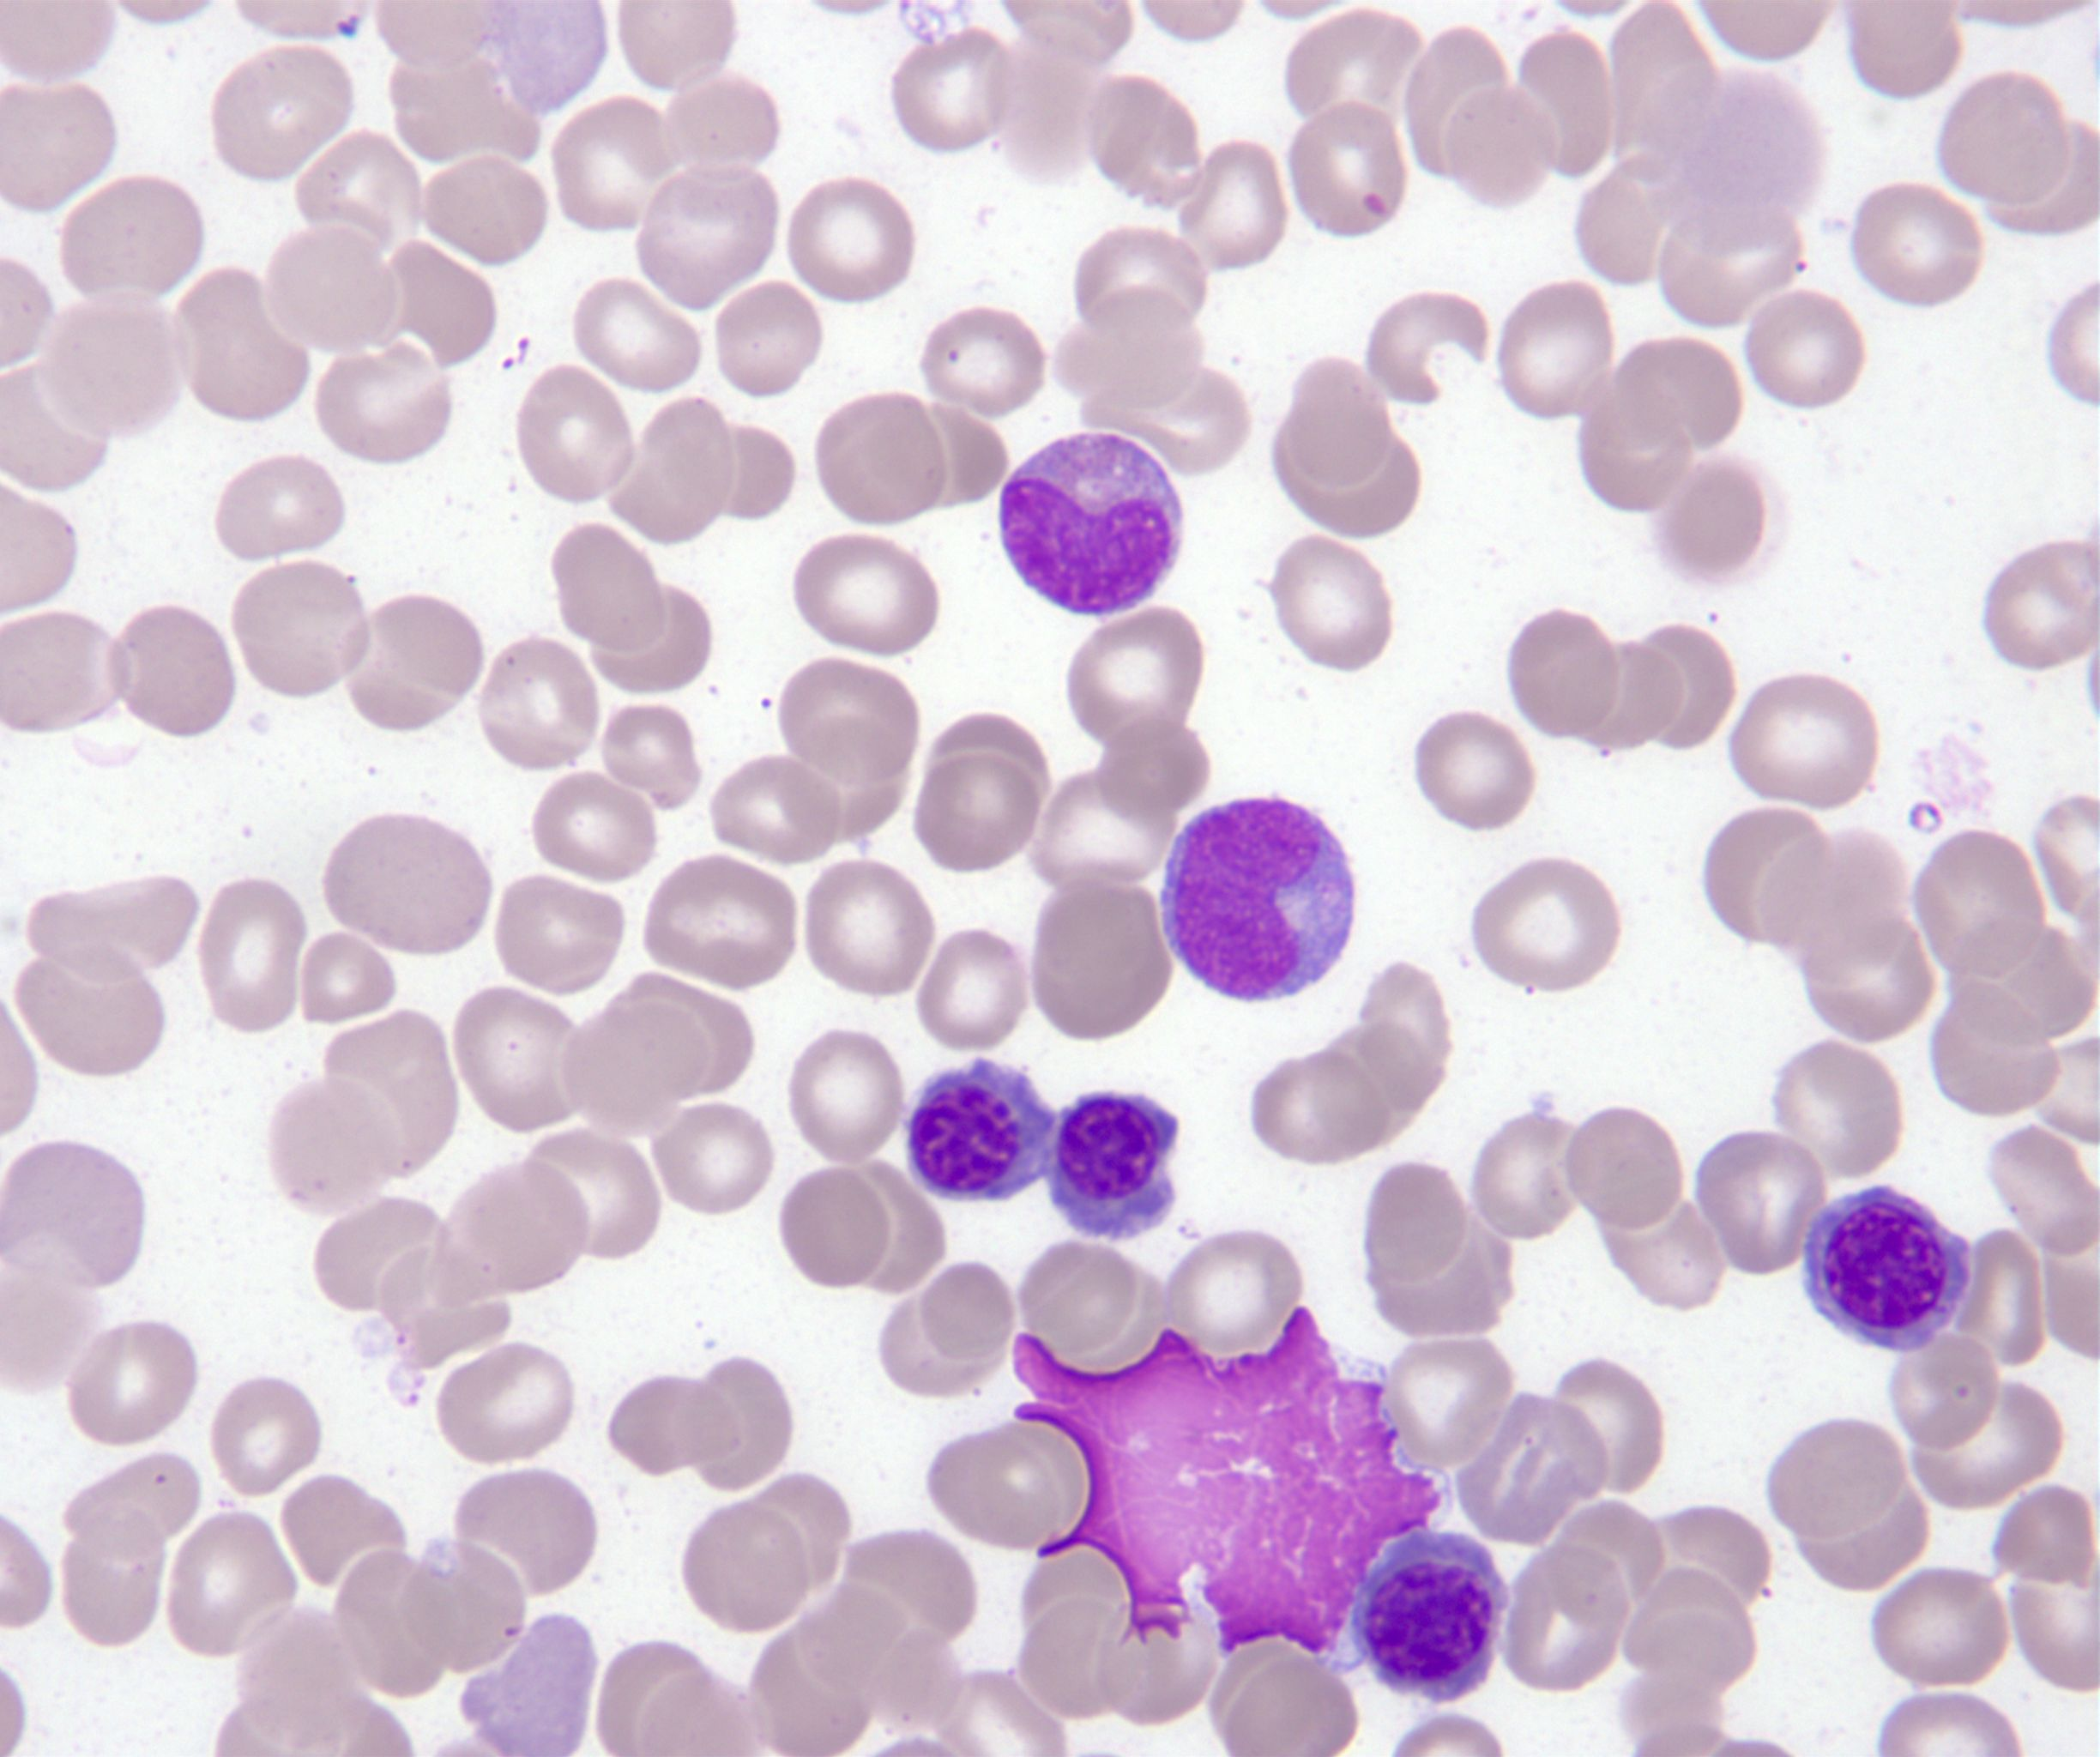24: (1809, 1186, 1973, 1349), (1355, 1532, 1503, 1701), (907, 1061, 1055, 1202), (1045, 1094, 1177, 1237)
4: (999, 438, 1177, 614)
42: (1160, 799, 1355, 1002)
x: (1015, 1309, 1441, 1652)
